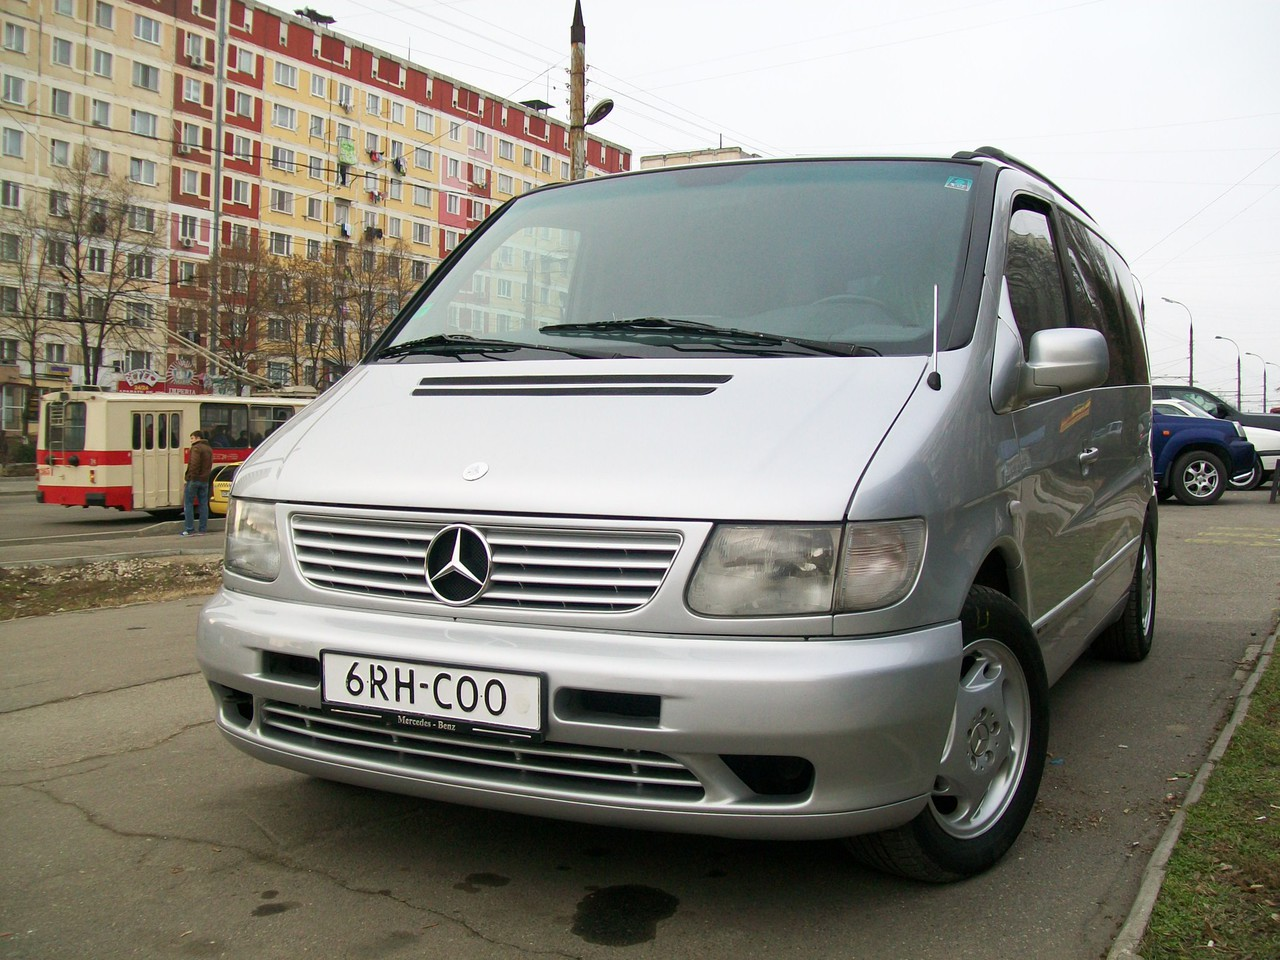car license plate: (318, 645, 545, 741)
